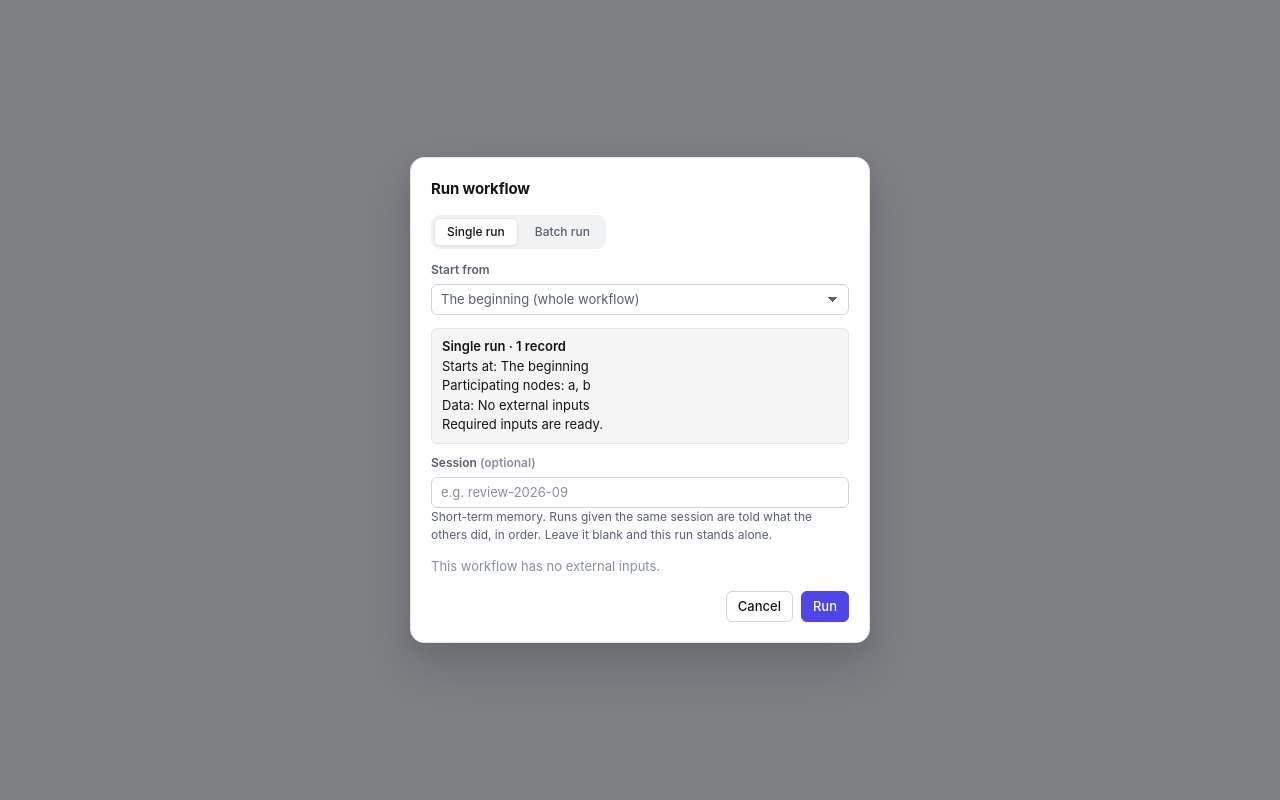
Test case: how big this batch is › reports a source it cannot read instead of a count
Click the button "Batch run": coordinates (562, 232) [522,218,603,246]
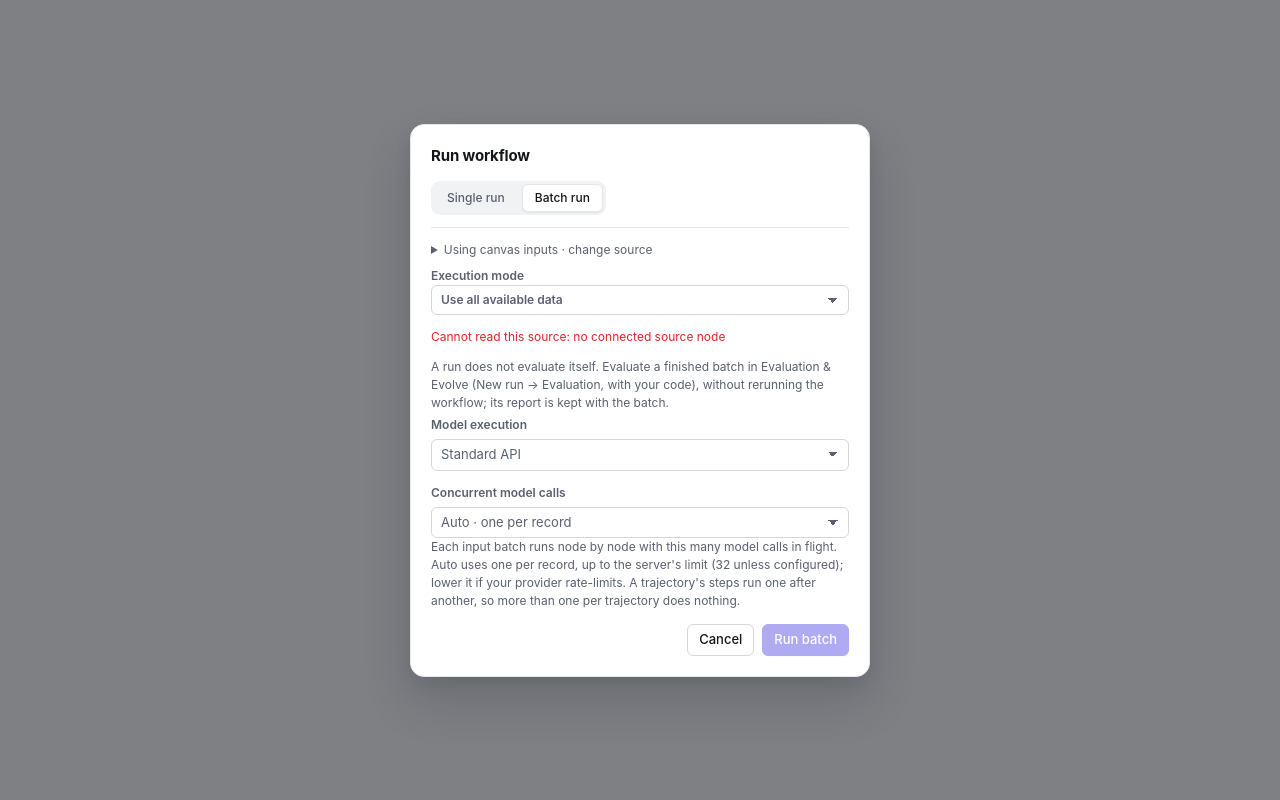
Check: the text "Cannot read this source: no connected source node" is shown, box [431,329,725,344]
